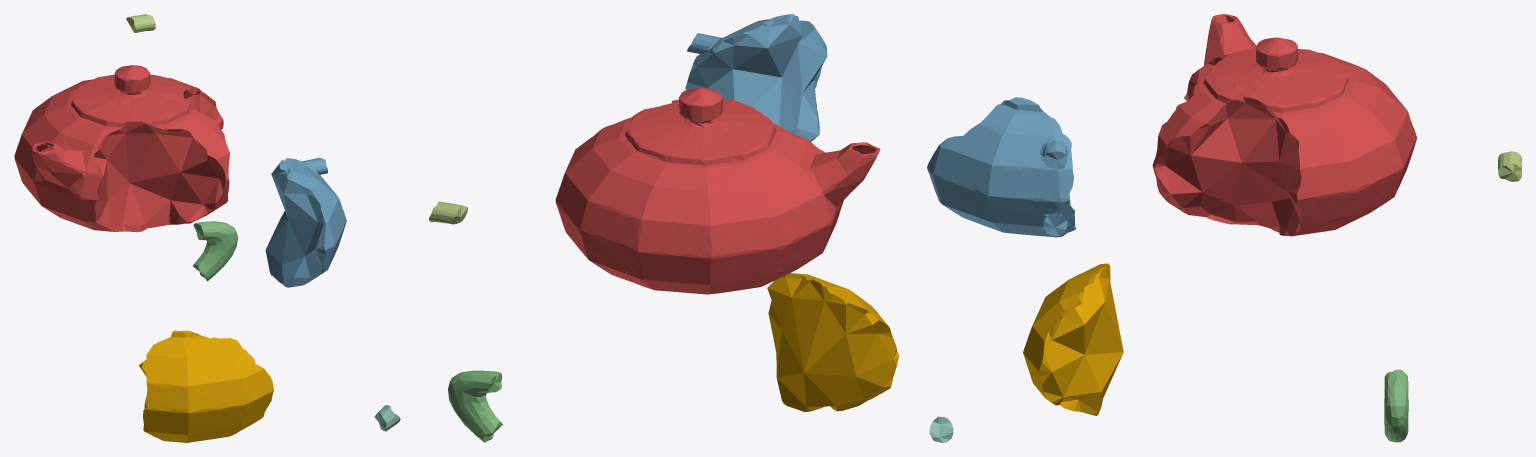
Rendered from fractured_48_6pcs_transformed.glb.
3 views of the same model, side by side, from view 1: azimuth 30°, elevation 25°; view 2: azimuth 150°, elevation 25°; view 3: azimuth 270°, elevation 25° (orthographic). The views are drawn at different scales.
Visible parts, largest first — view 1: piece_1.obj, piece_0.obj, piece_2.obj, piece_3.obj, piece_5.obj, piece_4.obj; view 2: piece_1.obj, piece_0.obj, piece_2.obj, piece_3.obj, piece_5.obj; view 3: piece_1.obj, piece_2.obj, piece_0.obj, piece_3.obj, piece_5.obj.
Part boxes in pixels (x1,y1,x2,y2): piece_1.obj: [14, 65, 229, 232]; piece_0.obj: [139, 330, 273, 442]; piece_2.obj: [265, 157, 346, 287]; piece_3.obj: [193, 221, 238, 281]; piece_5.obj: [126, 14, 155, 32]; piece_4.obj: [374, 405, 400, 431]; piece_1.obj: [555, 87, 880, 294]; piece_0.obj: [767, 273, 898, 412]; piece_2.obj: [680, 14, 827, 141]; piece_3.obj: [448, 370, 503, 442]; piece_5.obj: [429, 201, 467, 224]; piece_1.obj: [1152, 14, 1416, 236]; piece_2.obj: [927, 97, 1076, 237]; piece_0.obj: [1023, 263, 1123, 415]; piece_3.obj: [1384, 369, 1408, 442]; piece_5.obj: [1498, 151, 1521, 181].
Size of the model in its own units: 1 by 1.09 by 1.57.
